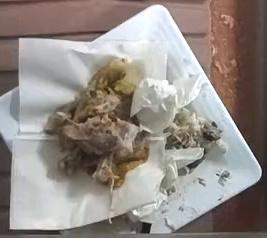rice: (164, 105, 222, 150)
unknown: (41, 56, 148, 218)
